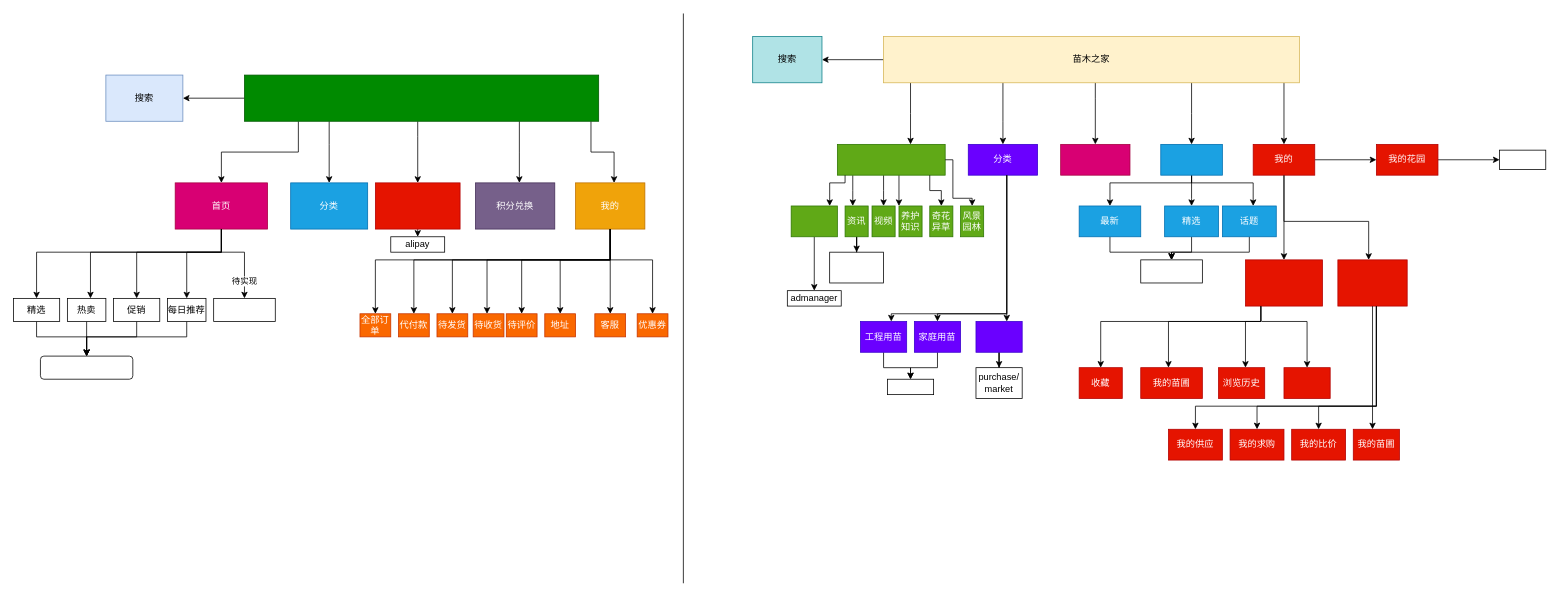
The diagram is 1559 pixels wide and 598 high, and some of its shapes have lost their labels. The shapes that lost their labels are listed below. From the top down, each one's centre as x and y in pixels, then its label:
(x=421, y=97): 小程序
(x=891, y=159): 首页/index
(x=1095, y=159): 识别
(x=1191, y=159): 苗圃
(x=1522, y=159): garden
(x=417, y=205): 购物车
(x=813, y=221): 推荐 advertising
(x=856, y=267): infomanager infos
(x=1171, y=271): circle/plantbbs
(x=1283, y=282): 个人服务
(x=1372, y=282): 工程服务
(x=244, y=309): 植物识别/只能推荐/阳台绿化
(x=998, y=336): 供应大厅
(x=86, y=367): goods
(x=910, y=386): family
(x=1306, y=382): 个人订单
